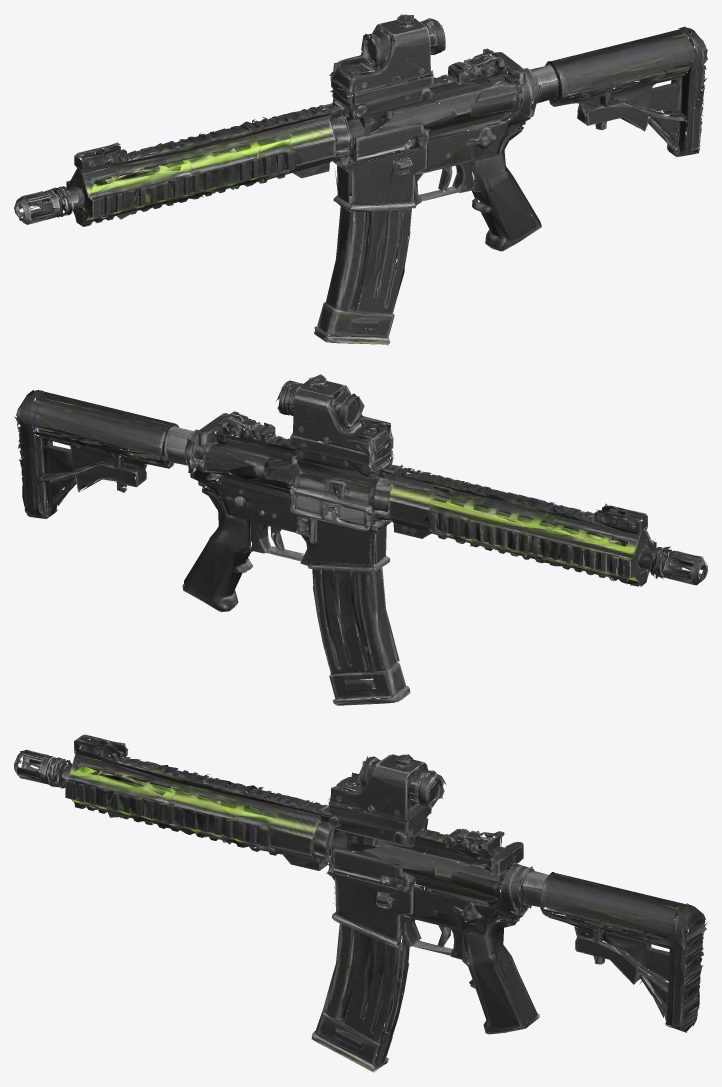
File: gun_rifle_lo.glb
3 renders of one model, top to bottom at view 1: azimuth 30°, elevation 25°; view 2: azimuth 150°, elevation 25°; view 3: azimuth 330°, elevation 25°, orthographic.
Visible parts, largest first — view 1: Mesh_0; view 2: Mesh_0; view 3: Mesh_0.
Boxes of the visible parts, x1=… form: Mesh_0: x1=14, y1=14, x2=707, y2=345; Mesh_0: x1=14, y1=374, x2=707, y2=705; Mesh_0: x1=14, y1=734, x2=707, y2=1072.
Size of the model in its own units: 1.9 by 0.8493 by 0.1615.
1 material, 1 textured.
